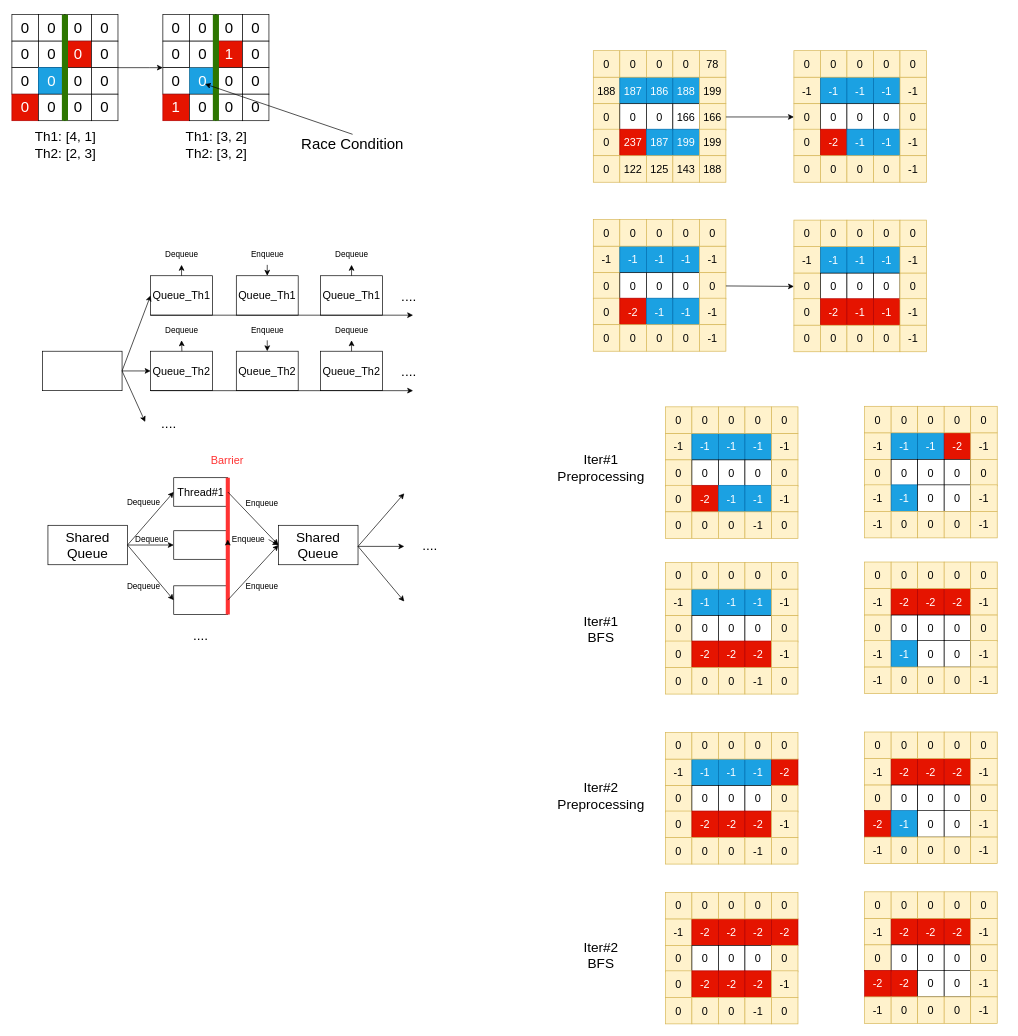
Image size: 1018x1036. Some labels were removed from this diagram. The centre of each missing label's shape, as x and y in pixels:
"Master Queue" goes at point 82,371.
"Thread#2" goes at point 200,544.
"Thread#3" goes at point 200,599.
